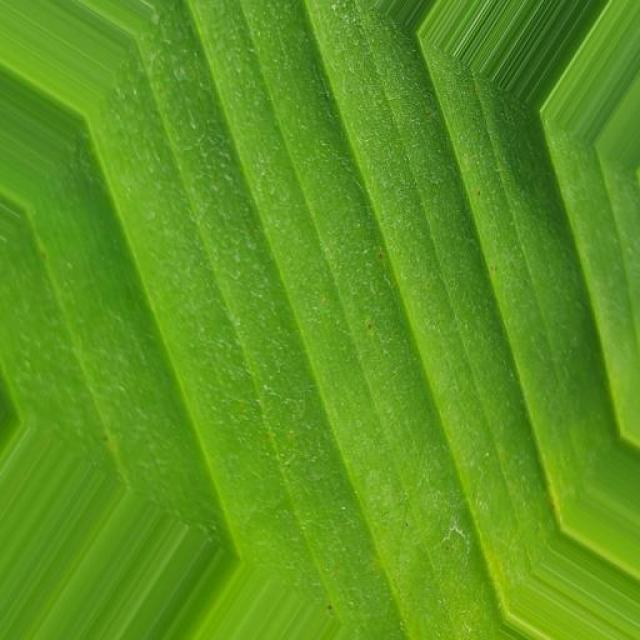Black_leaf_spot: (10, 21, 640, 579)
